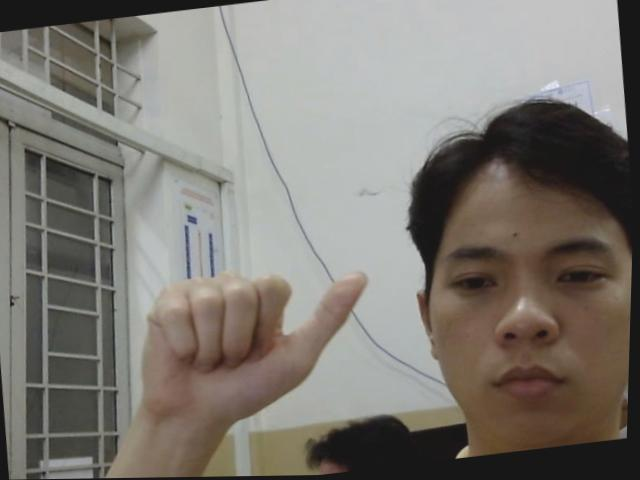A: (131, 251, 382, 422)
